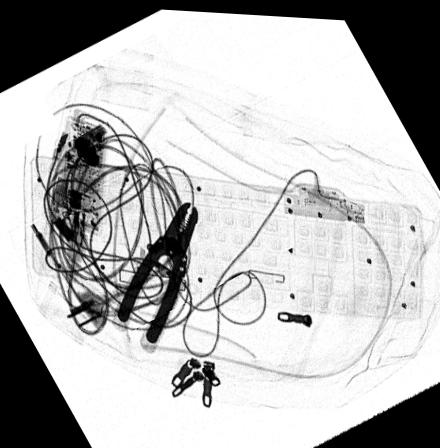Pliers: (113, 199, 199, 342)
